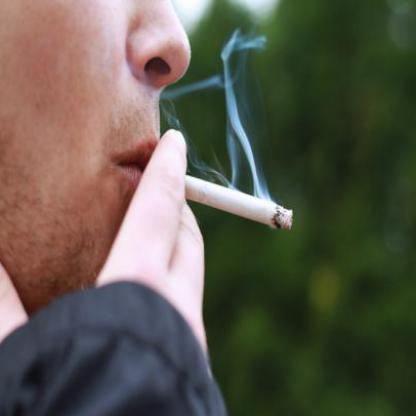cigarette: (180, 168, 294, 236)
person: (0, 0, 195, 341)
smoke: (222, 35, 263, 196)
